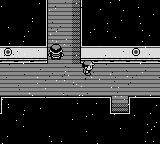main: (49, 45, 64, 60), (82, 61, 95, 75)
no-caminable: (1, 96, 160, 143), (81, 0, 159, 46), (1, 0, 46, 46), (82, 47, 160, 64), (1, 47, 47, 64)
puerta: (109, 96, 130, 115)
texto: (81, 47, 160, 64)
